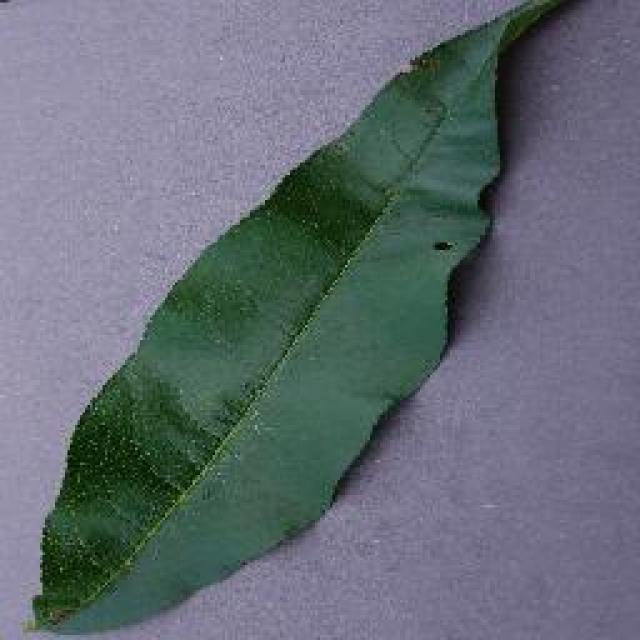Peach_Bacterial_Spot: (305, 160, 523, 310)
